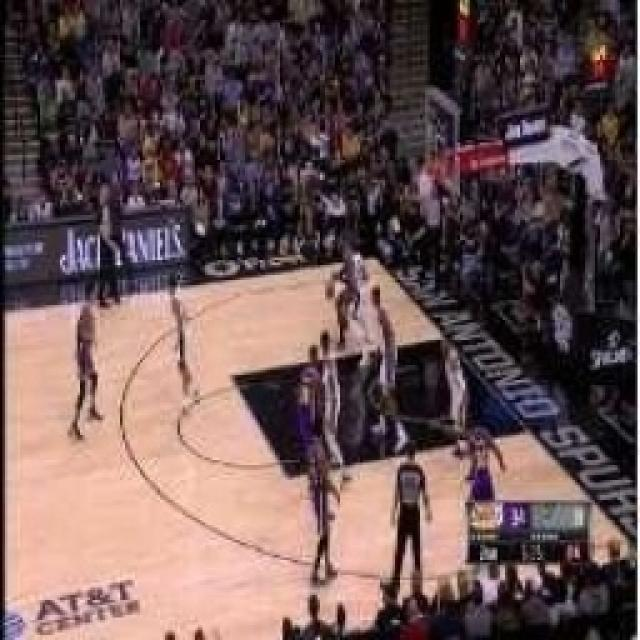rim: (323, 281, 336, 299)
